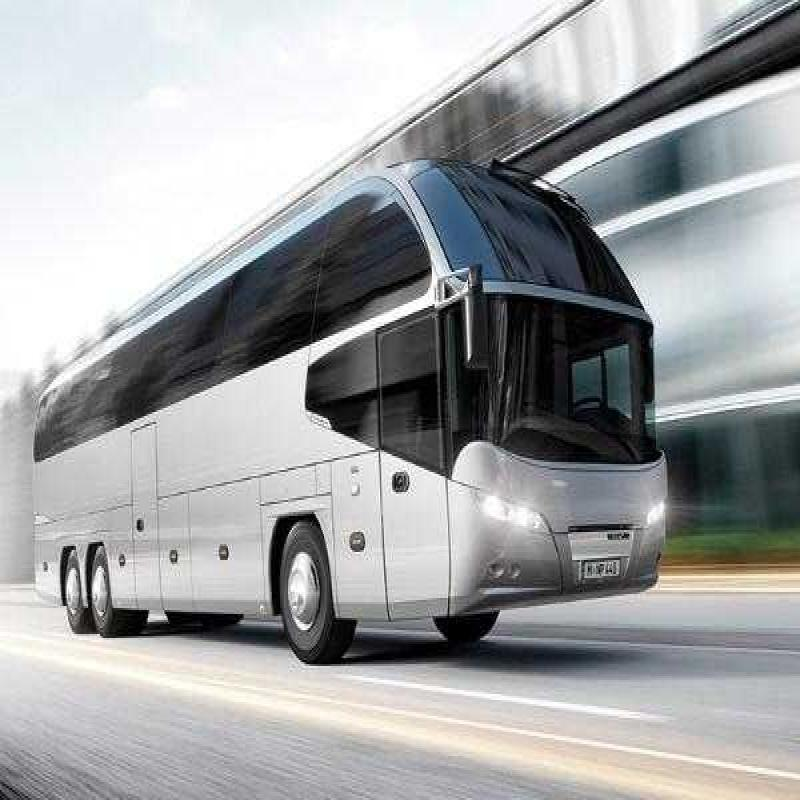bus: (35, 157, 664, 677)
